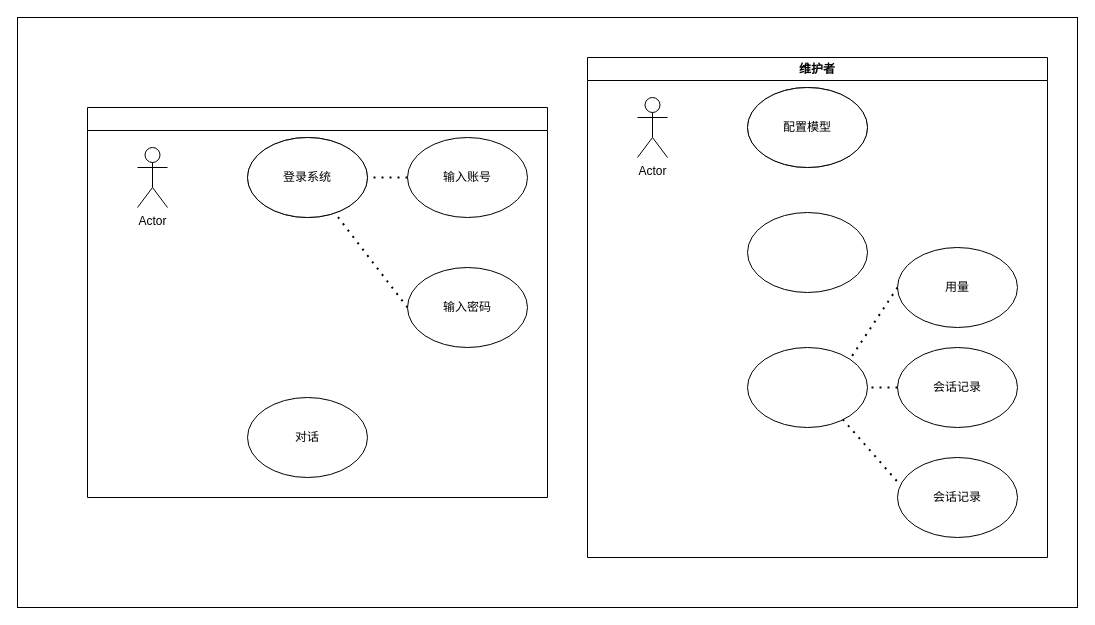
Some shapes in this 1095 by 625 pixel diagram are drawn without their labels. The centre of each missing label's shape, as x and y in pixels:
"用户" belongs at (x=317, y=302).
"运维看板" belongs at (x=807, y=387).
"配置消息通道" belongs at (x=807, y=252).
